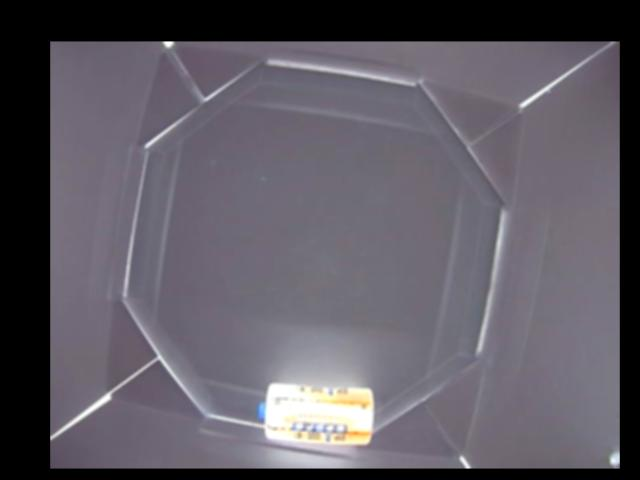Battery: (258, 385, 374, 443)
